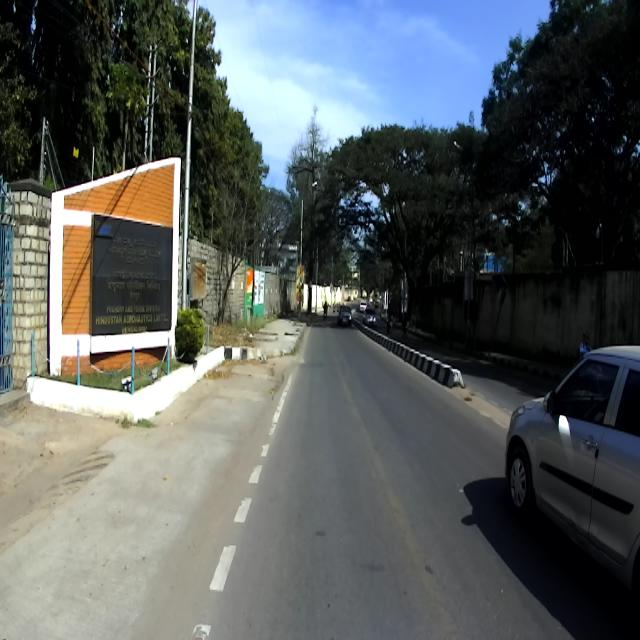car ahead at: (506, 338, 640, 604)
